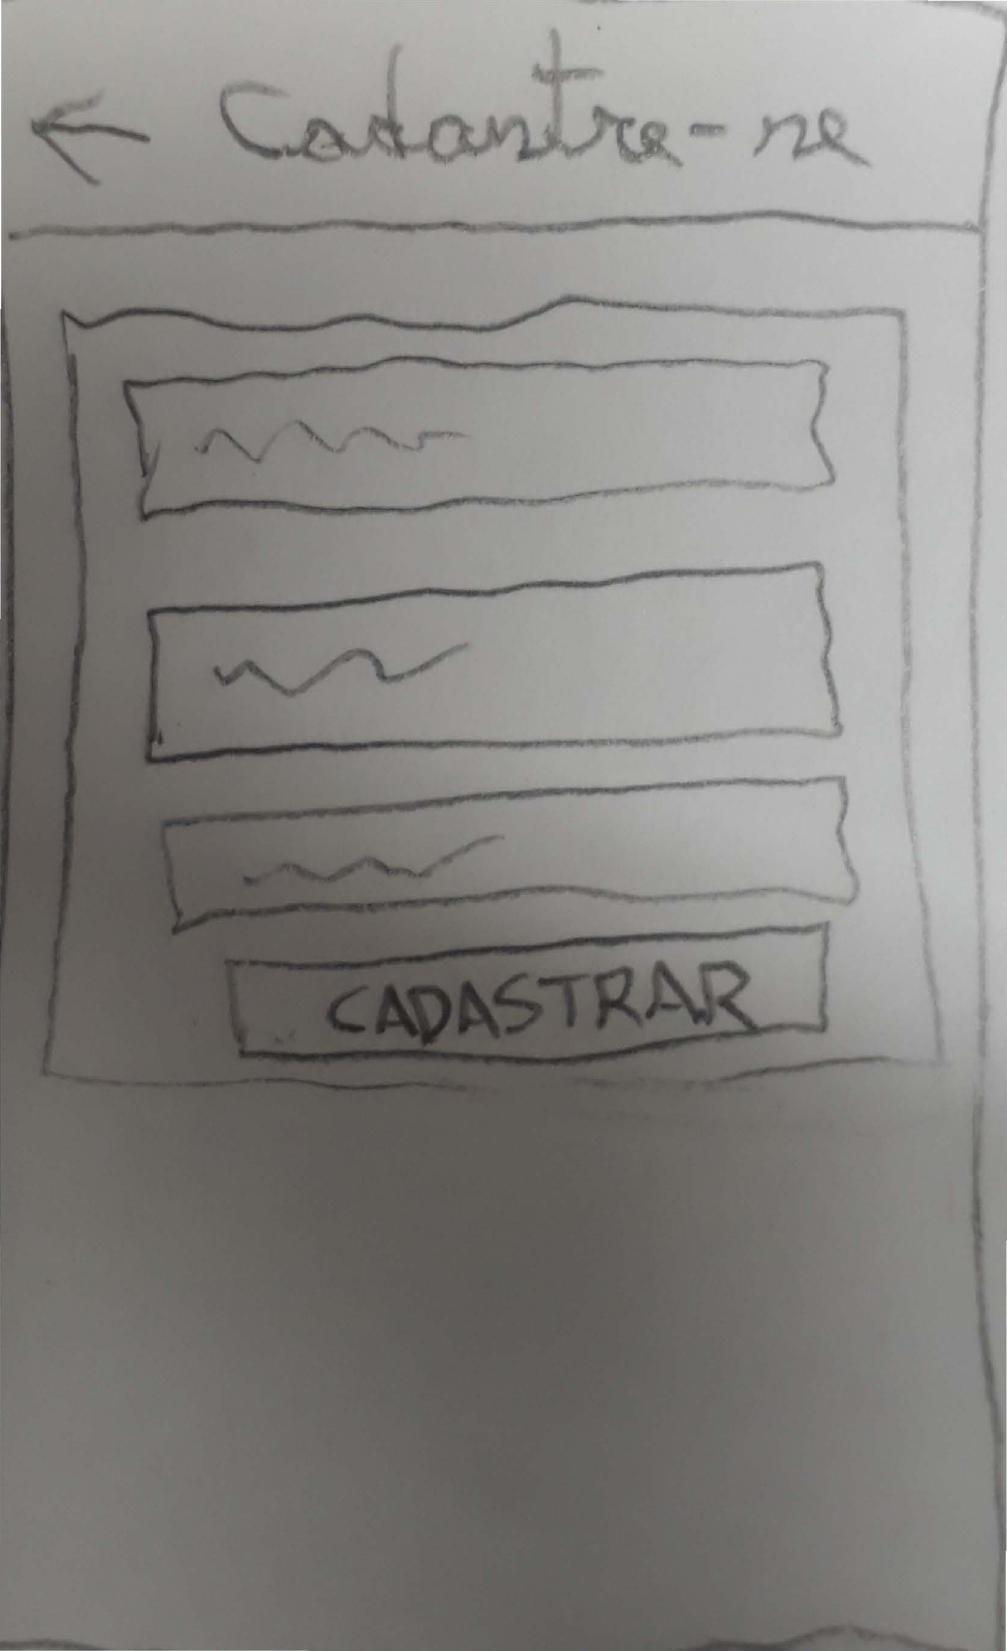Button: (223, 920, 835, 1059), (22, 86, 158, 190)
Label: (209, 27, 877, 164)
Screen: (0, 0, 1006, 1650)
TextBox: (143, 563, 844, 767), (121, 353, 837, 522), (158, 776, 860, 932)
